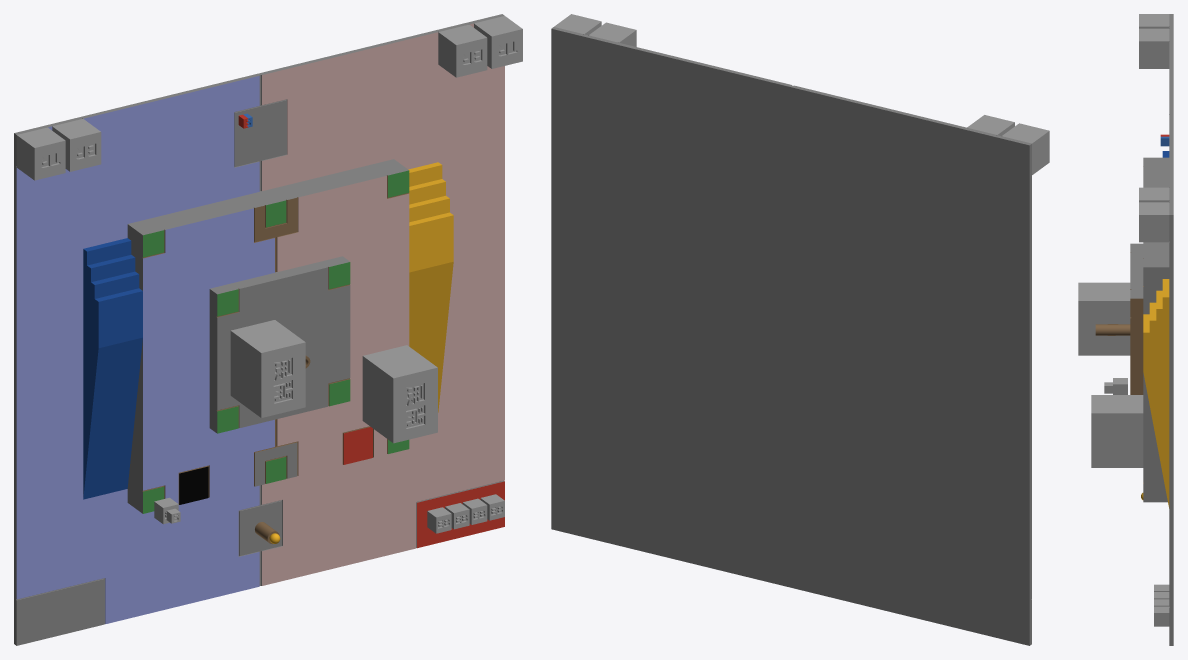
File: ABU2027_FieldForUnity.fbx
The picture shows the model from 3 angles, left to right: view 1: azimuth 30°, elevation 25°; view 2: azimuth 150°, elevation 25°; view 3: azimuth 270°, elevation 25°; orthographic projection. The views are drawn at different scales.
Parts seen in each view (by area): view 1: Body1 (×7), Body2, Body4, Body6, Body5; view 2: Body1 (×3), Body4; view 3: Body1 (×9), Body2, Body5, Body4.
Boxes of the visible parts, x1,y1,x2,y2 form: Body1 (×7): (14, 16, 522, 645); Body2: (127, 159, 409, 513); Body4: (258, 14, 504, 585); Body6: (83, 238, 142, 499); Body5: (408, 162, 453, 412); Body1 (×3): (588, 22, 1049, 645); Body4: (551, 27, 791, 587); Body1 (×9): (1078, 14, 1173, 626); Body2: (1095, 157, 1169, 502); Body5: (1143, 279, 1169, 508); Body4: (1169, 114, 1173, 645).
Size of the model in its own units: 220 by 220 by 44.
